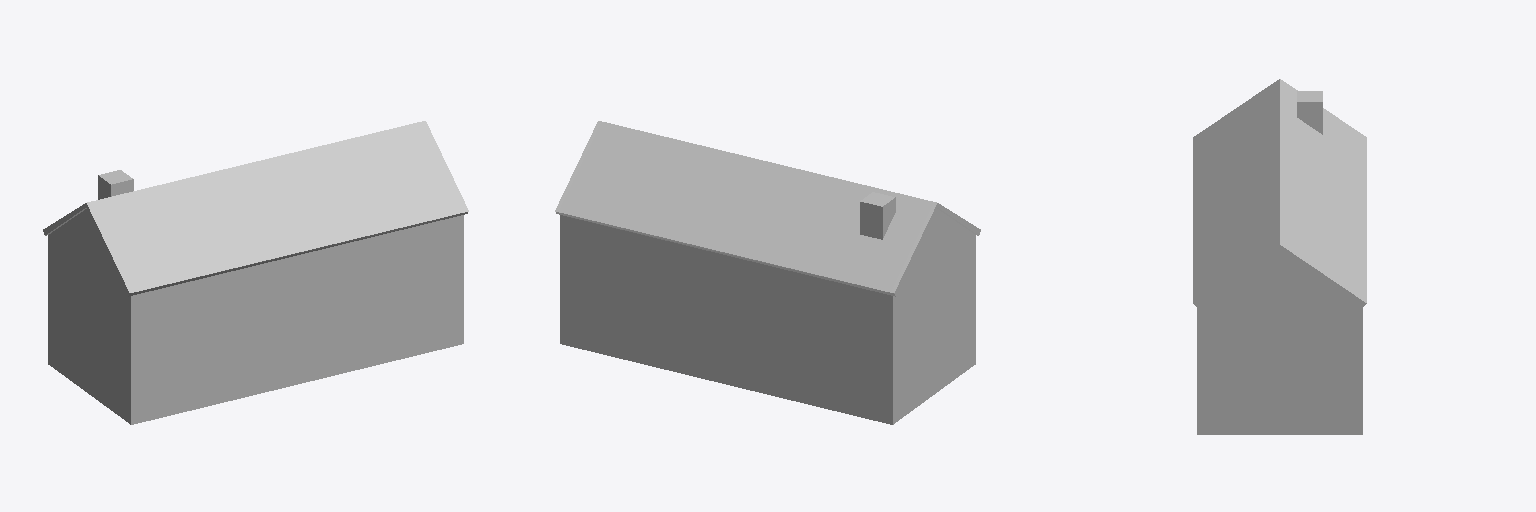
File: HouseStraight.obj
3 renders of one model, left to right at view 1: azimuth 30°, elevation 25°; view 2: azimuth 150°, elevation 25°; view 3: azimuth 270°, elevation 25°, orthographic.
Parts seen in each view (by area): view 1: HouseStraight PROPS; view 2: HouseStraight PROPS; view 3: HouseStraight PROPS.
Part boxes in pixels (left/top/right/bottom): HouseStraight PROPS: left=43, top=121, right=468, bottom=424; HouseStraight PROPS: left=555, top=121, right=980, bottom=424; HouseStraight PROPS: left=1193, top=79, right=1366, bottom=434.
Size of the model in its own units: 3.11 by 1.72 by 1.38.